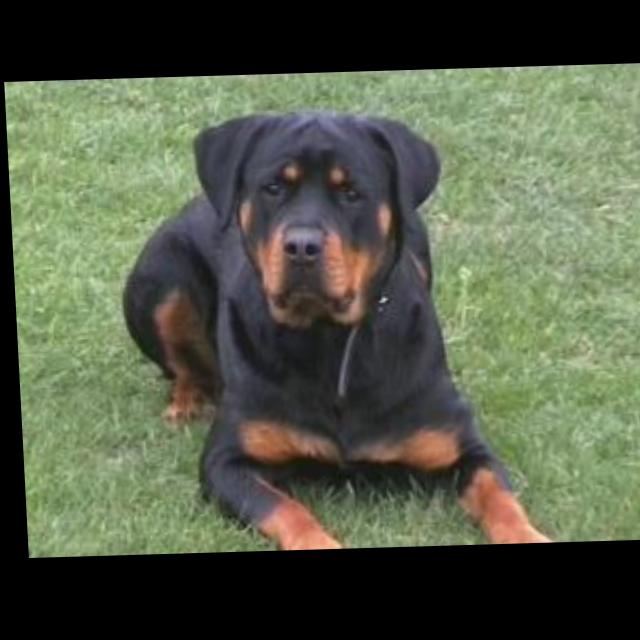rottweiler: (111, 108, 560, 558)
